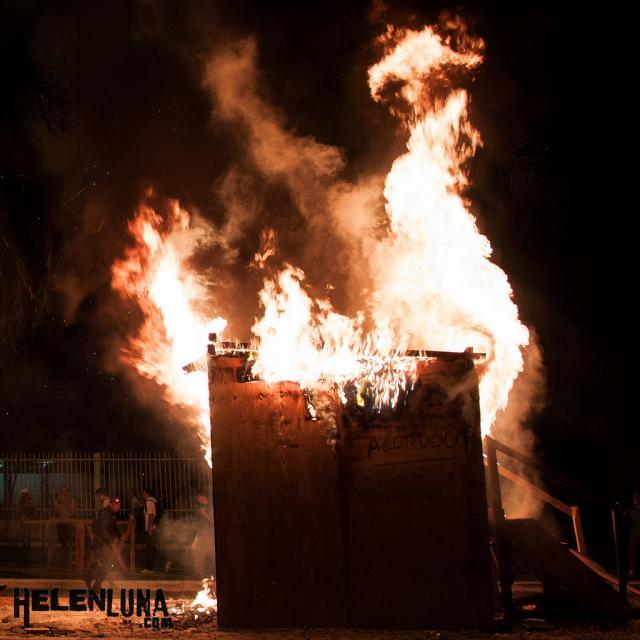Fire: (405, 218, 486, 338), (266, 325, 336, 378), (164, 284, 195, 366)
